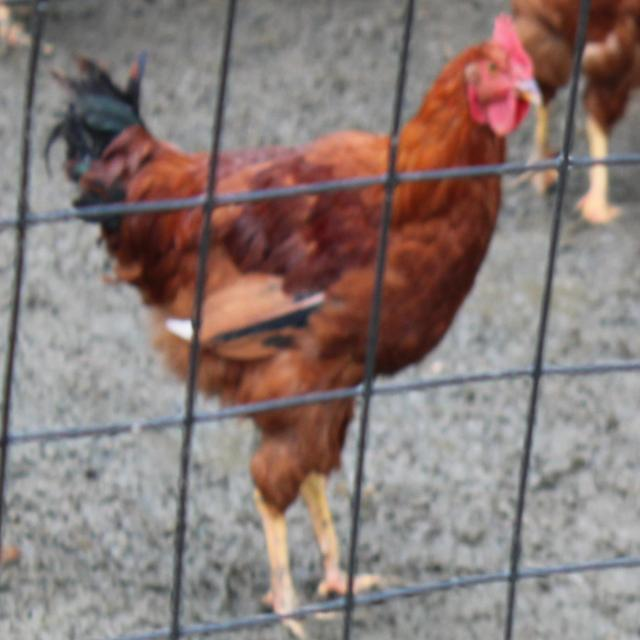cook: (191, 167, 385, 418), (382, 3, 572, 216), (371, 163, 503, 386), (46, 52, 210, 207), (244, 395, 354, 616), (94, 203, 203, 376), (211, 126, 394, 196)
